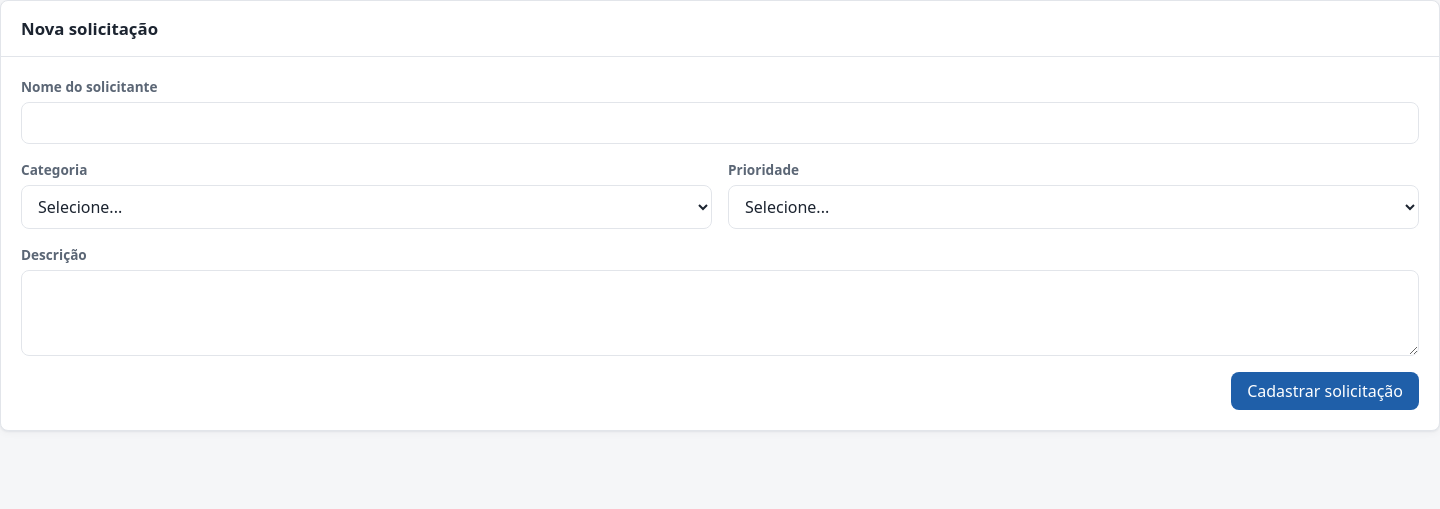
Test: FormularioSolicitacao › aviso de sucesso › sai da tela no botao de fechar
In the field labelled "Nome do solicitante": [720, 123] box left=21, top=102, right=1419, bottom=144, type "Maria Ficticia"
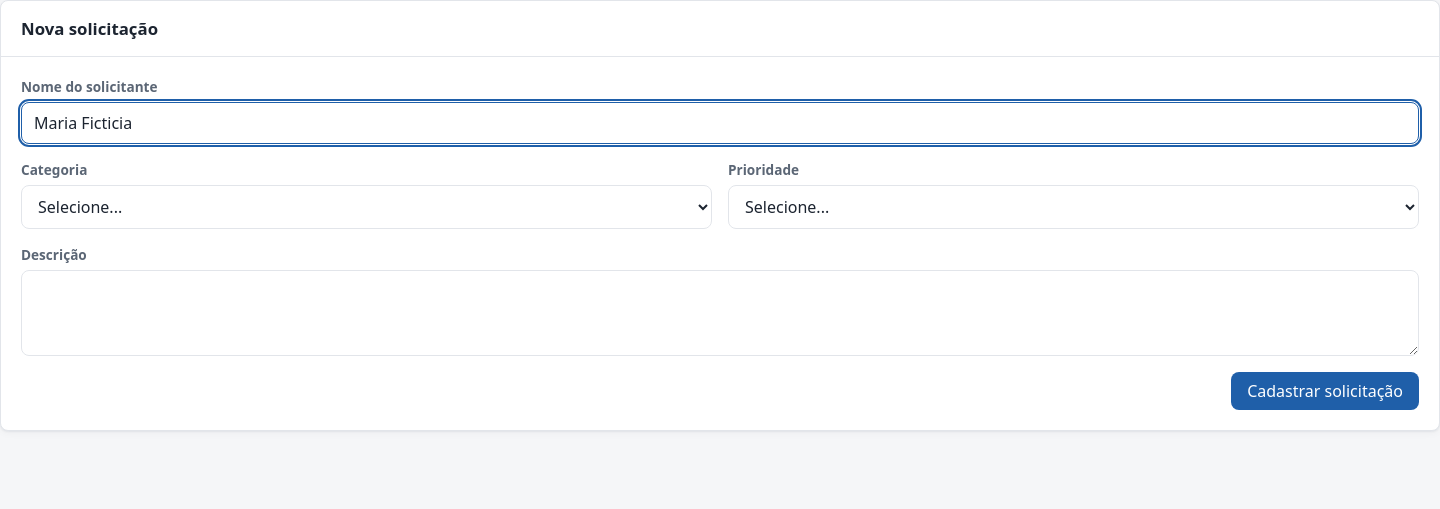
Select "Consulta" in the dropdown labelled "Categoria": [366, 207] box left=21, top=185, right=712, bottom=229
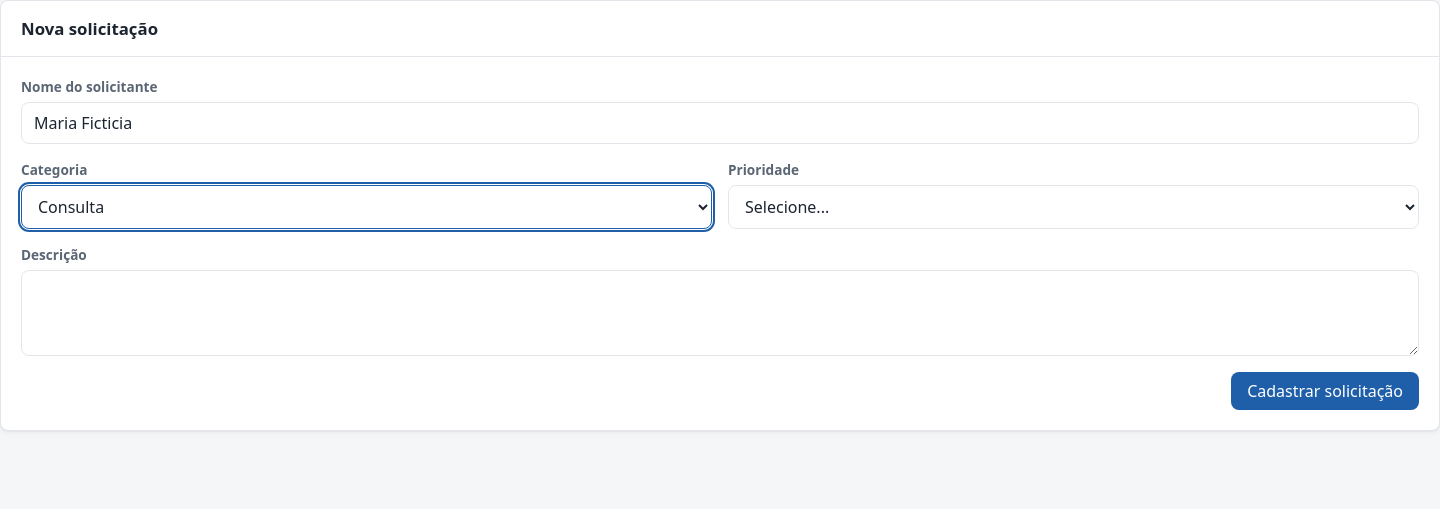
Select "Média" in the dropdown labelled "Prioridade": [1074, 207] box left=728, top=185, right=1419, bottom=229
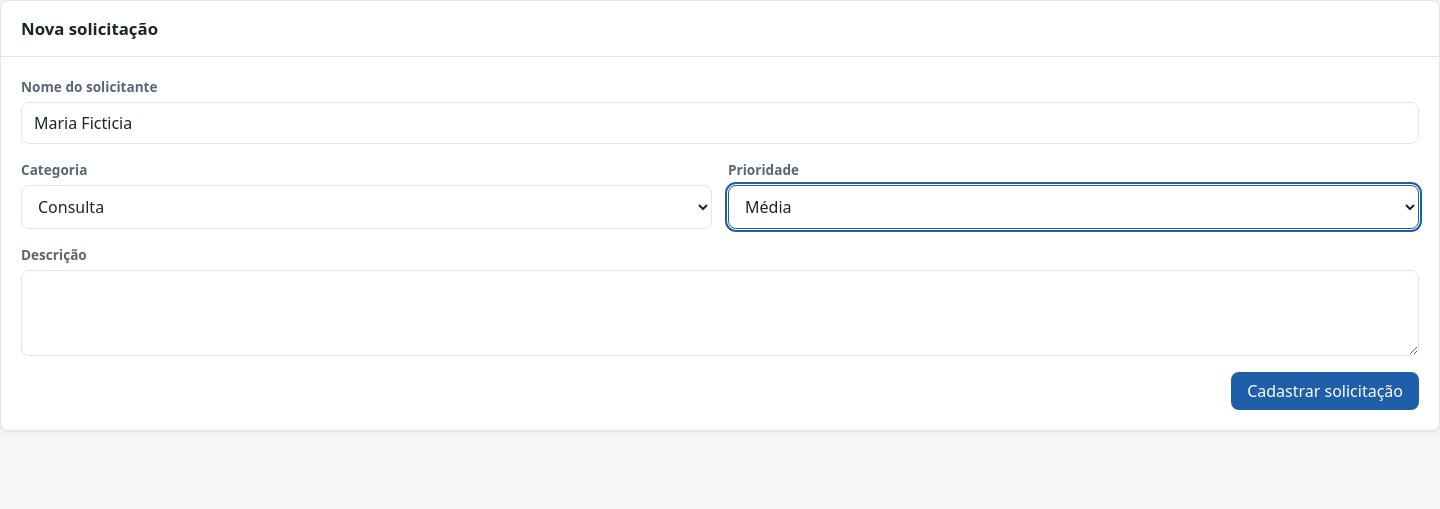
In the text box labelled "Descrição": [720, 313] box left=21, top=270, right=1419, bottom=356, type "Consulta de rotina."
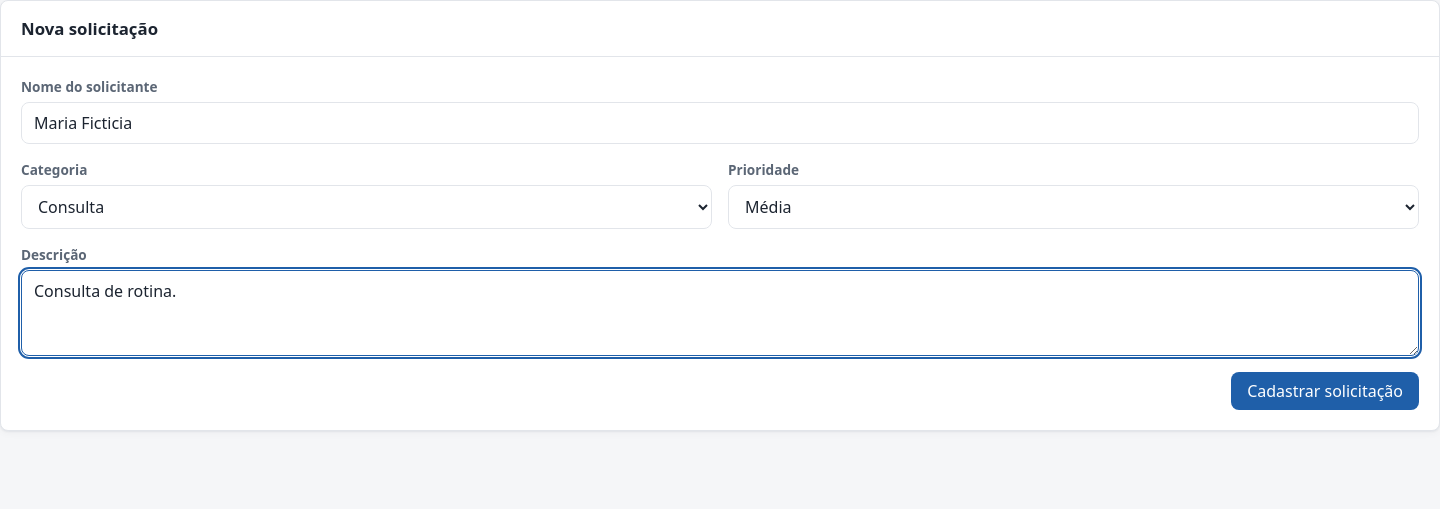
Click the button "Cadastrar solicitação": [1325, 391] box left=1231, top=372, right=1419, bottom=410
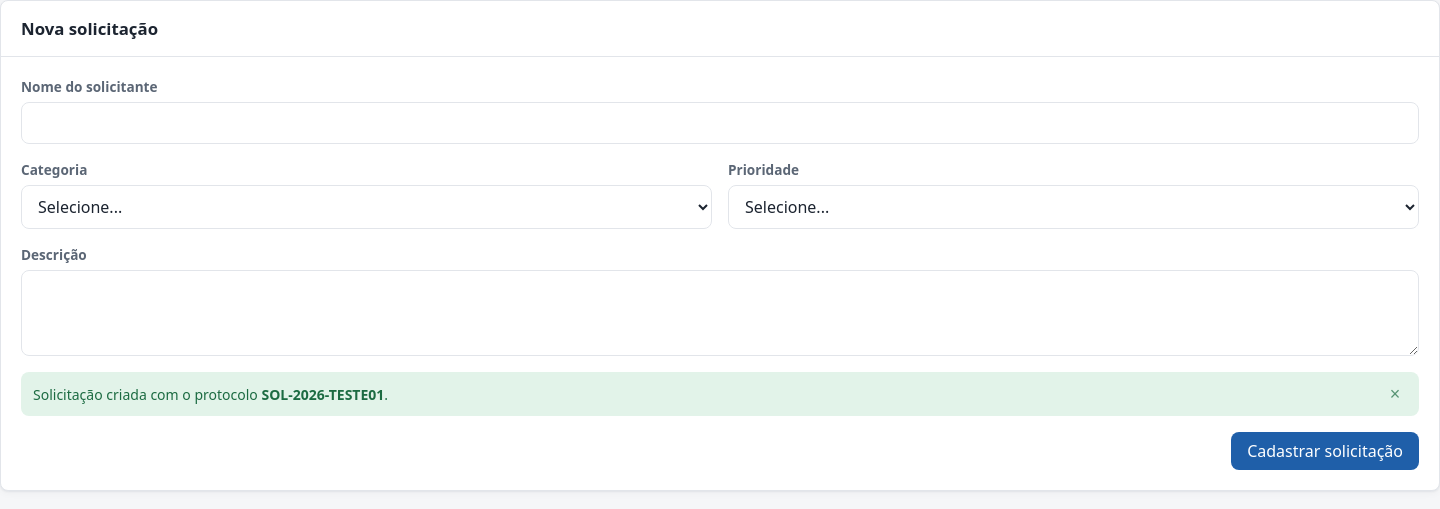
Check: the text "SOL-2026-TESTE01" is shown, box left=261, top=384, right=384, bottom=404
Click the button named "fechar aviso": [1395, 394] box left=1383, top=382, right=1407, bottom=406
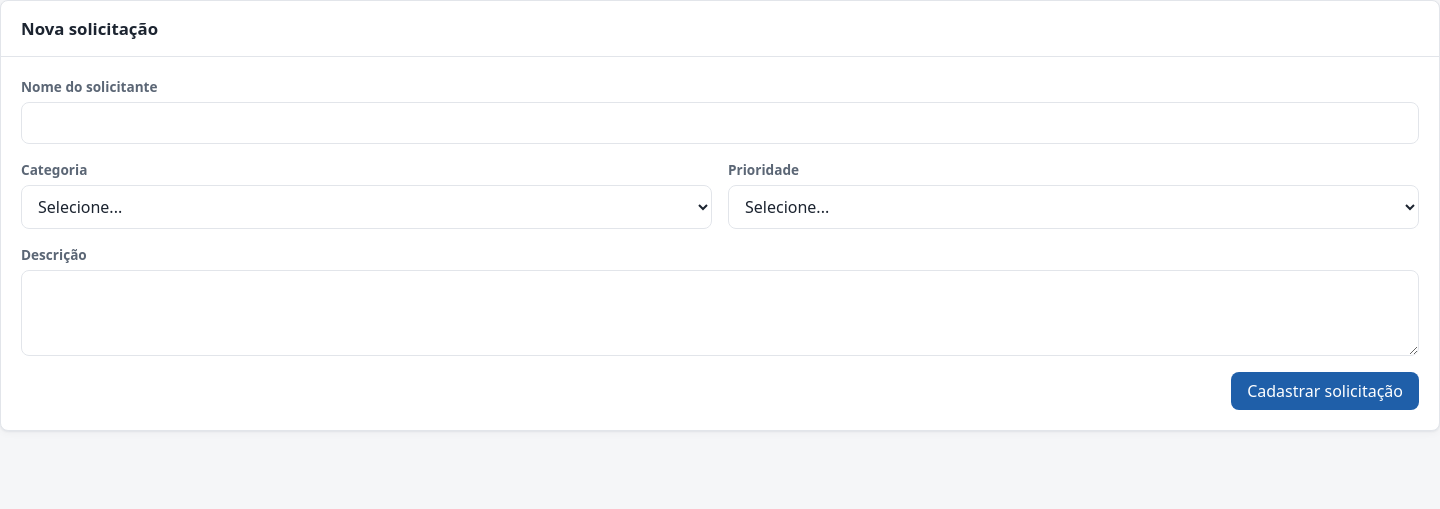
Check: the text "SOL-2026-TESTE01" is gone
